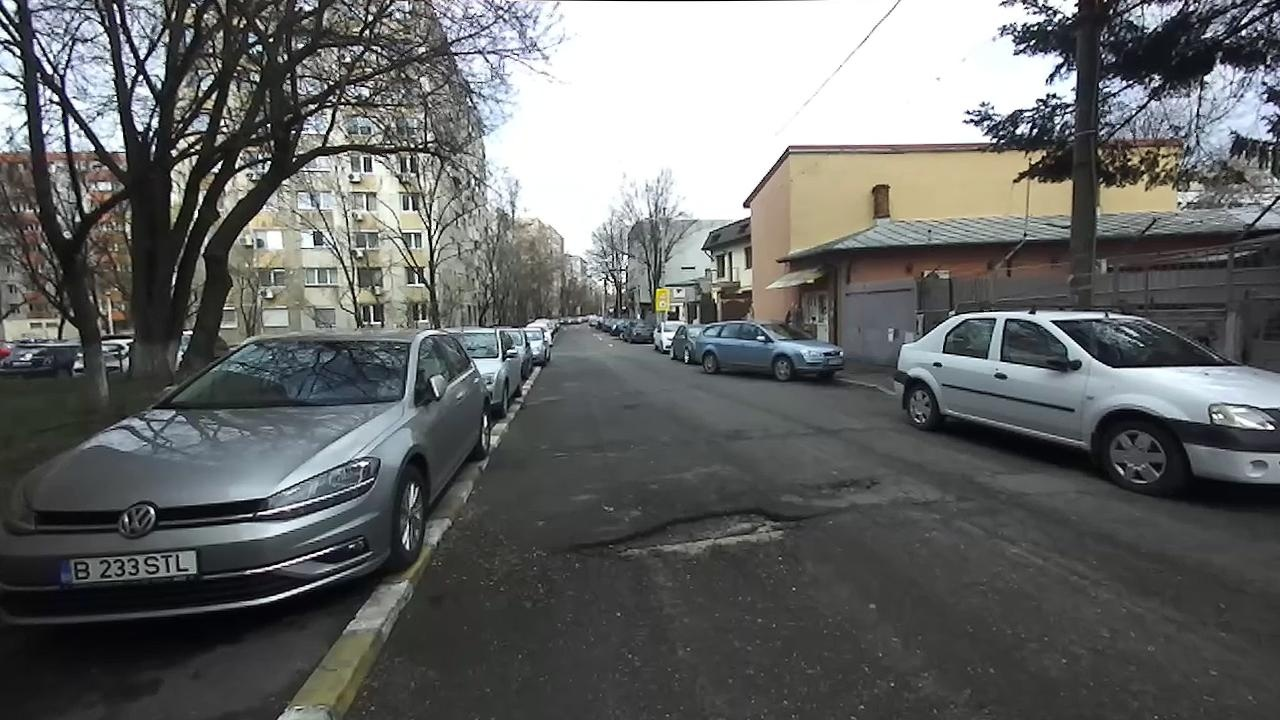pothole: (549, 502, 828, 560), (796, 470, 890, 495)
